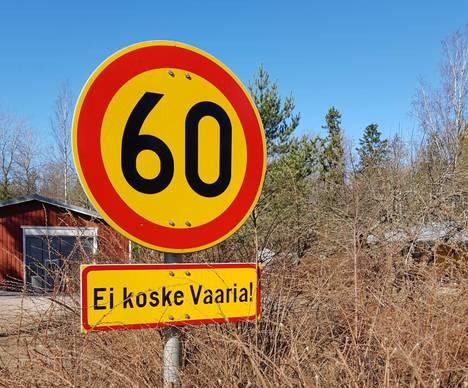traffic sign: (47, 32, 280, 366)
